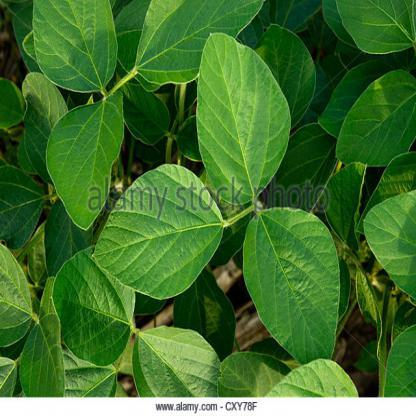Soyabean leaf: (91, 161, 226, 301), (240, 206, 340, 387), (197, 31, 293, 210)
